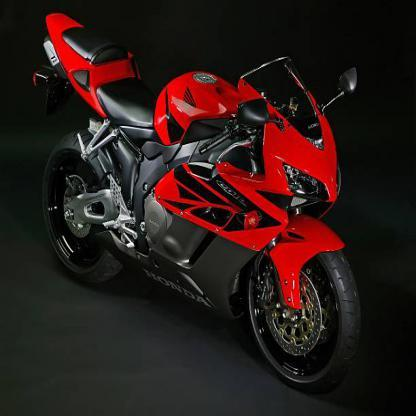Motorcycle: (28, 8, 366, 399)
